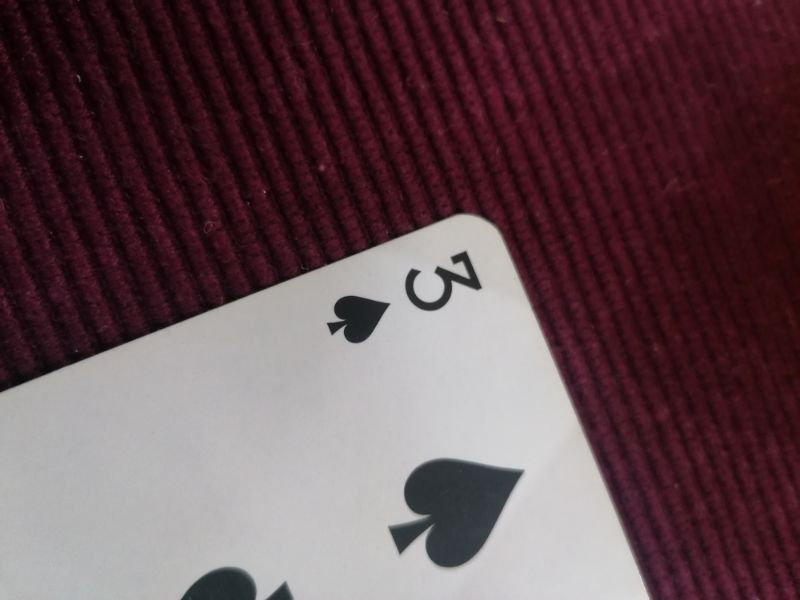3s: (319, 241, 490, 348)
